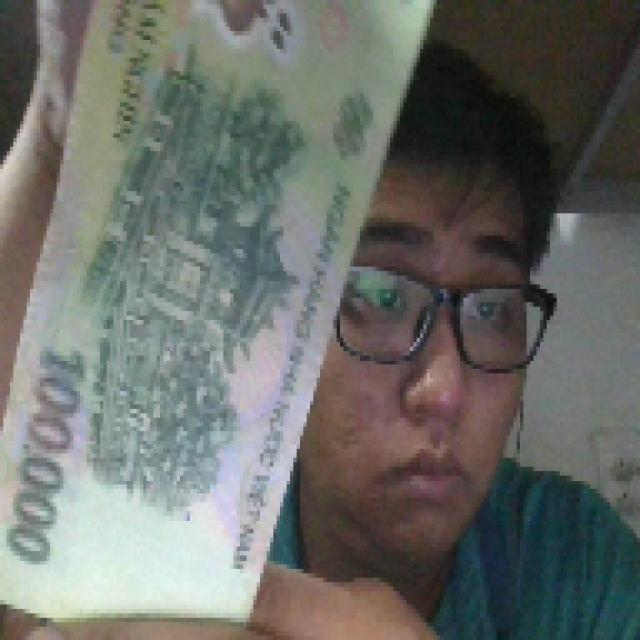100 000 VND: (0, 0, 443, 626)
